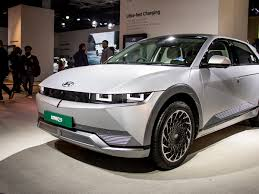Honda Ioniq: (31, 26, 259, 177)
